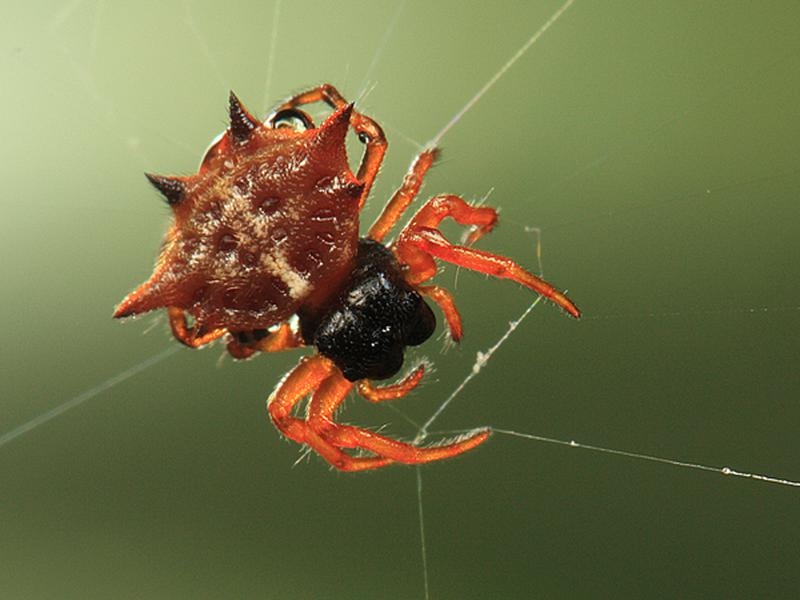Spiny_beetle: (135, 104, 510, 448)
